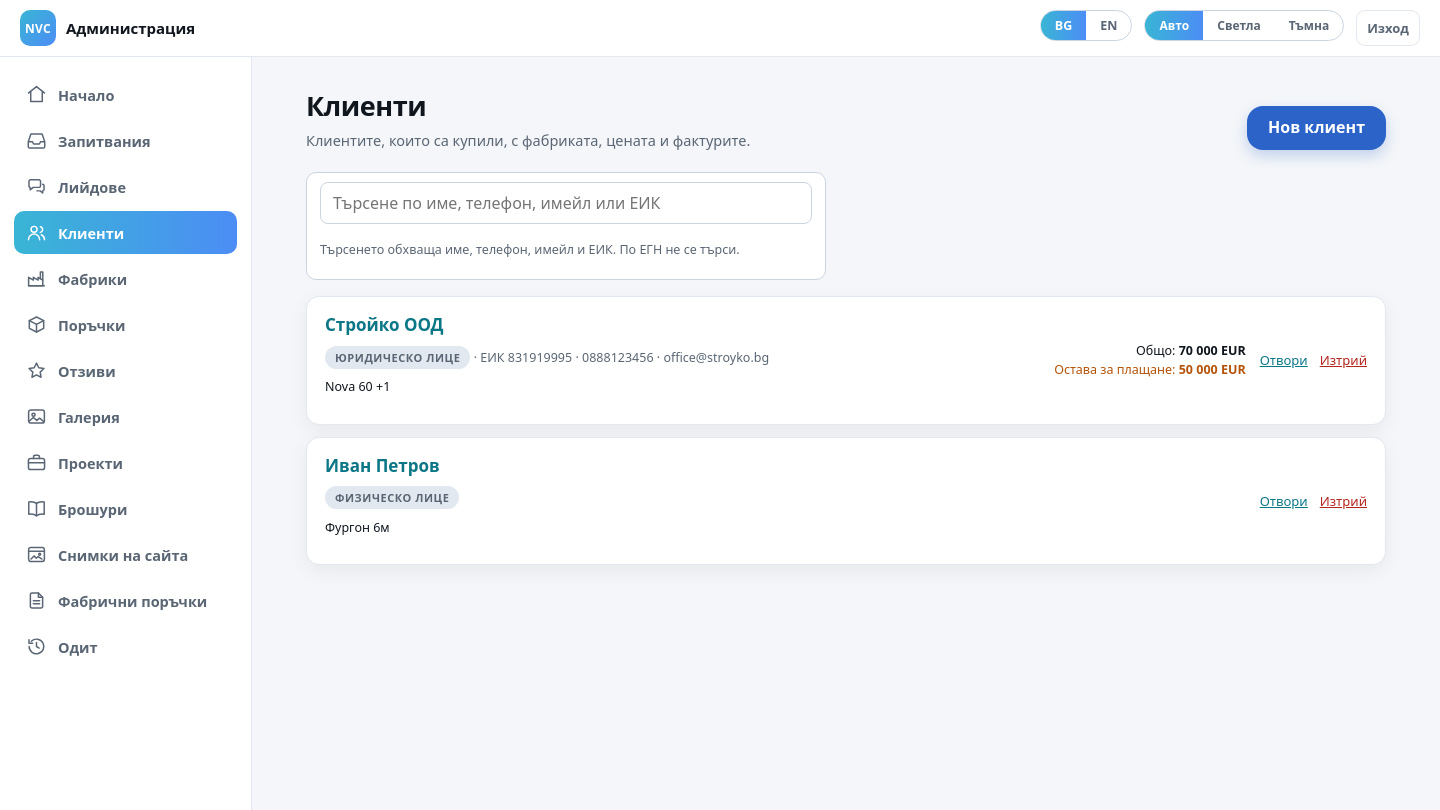
it: AdminCustomersPage › works out what is left to pay as the numbers are typed
The image size is (1440, 810).
Click the button "Стройко ООД" at (384, 324), box [325,313,444,336]
(page scrolled)
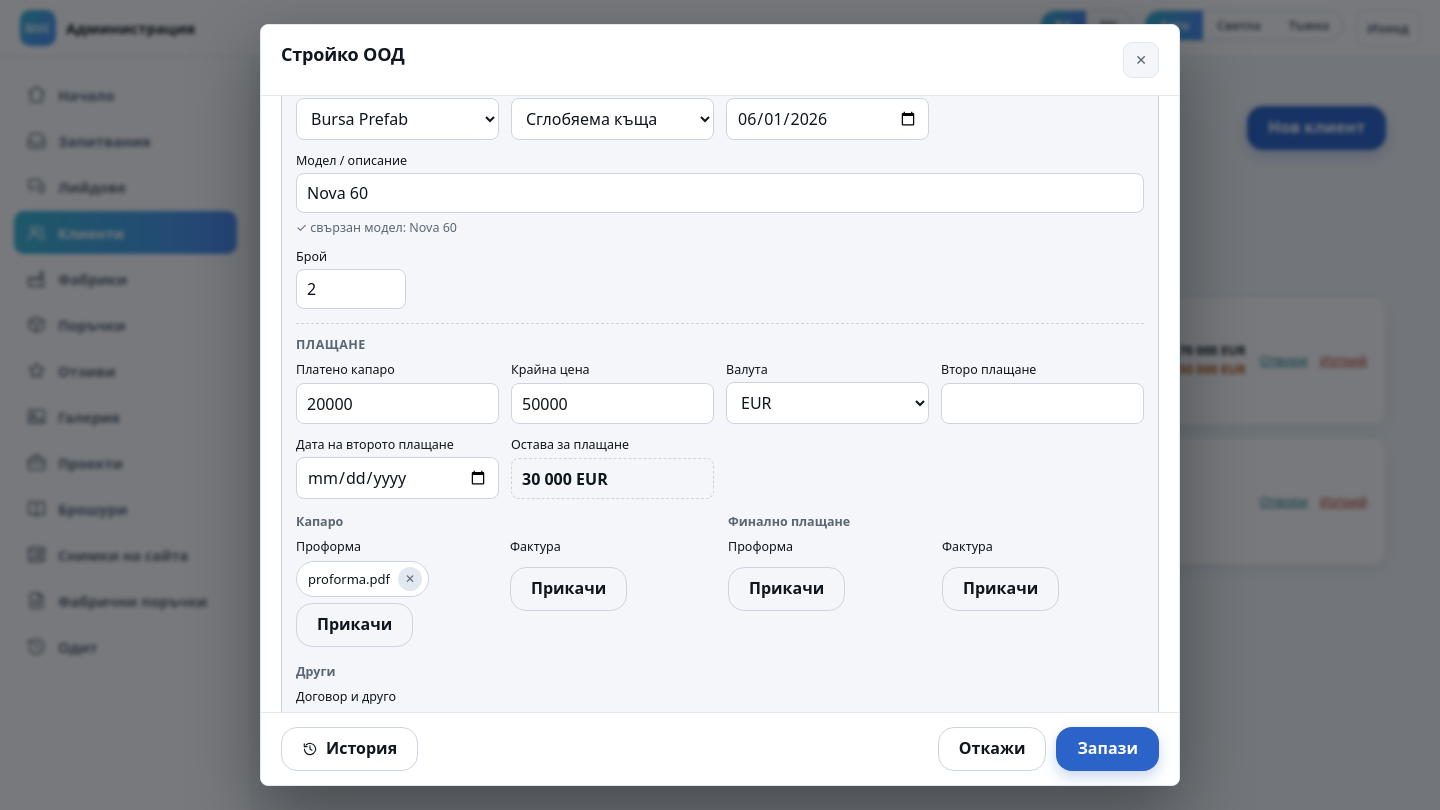
Expected: the text "30 000 EUR" is shown, [511,458,714,499]
Replace the text in the field labelled "Платено капаро" with "35000" at (398, 404), box [296,383,499,424]
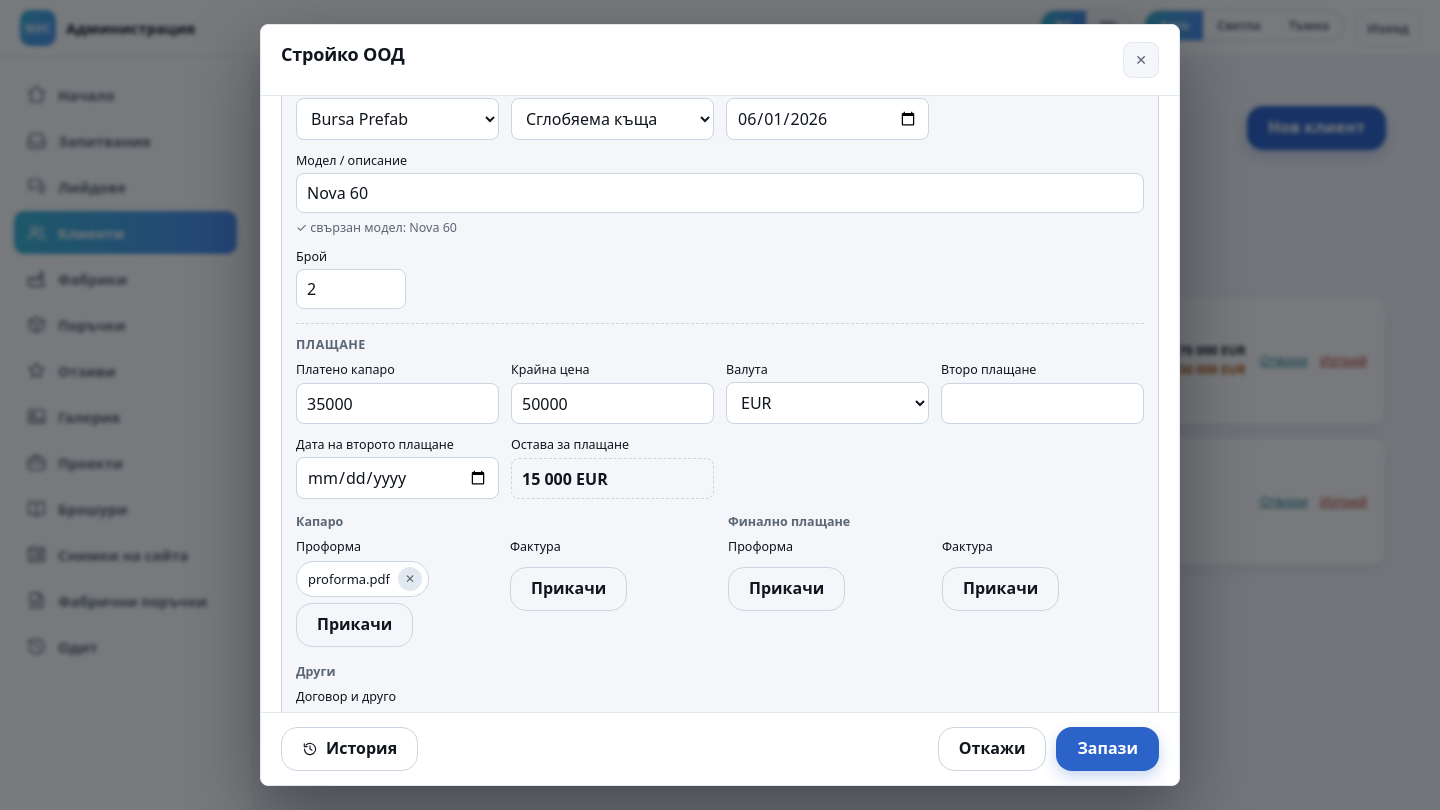
Expected: the text "15 000 EUR" is shown, [511,458,714,499]
